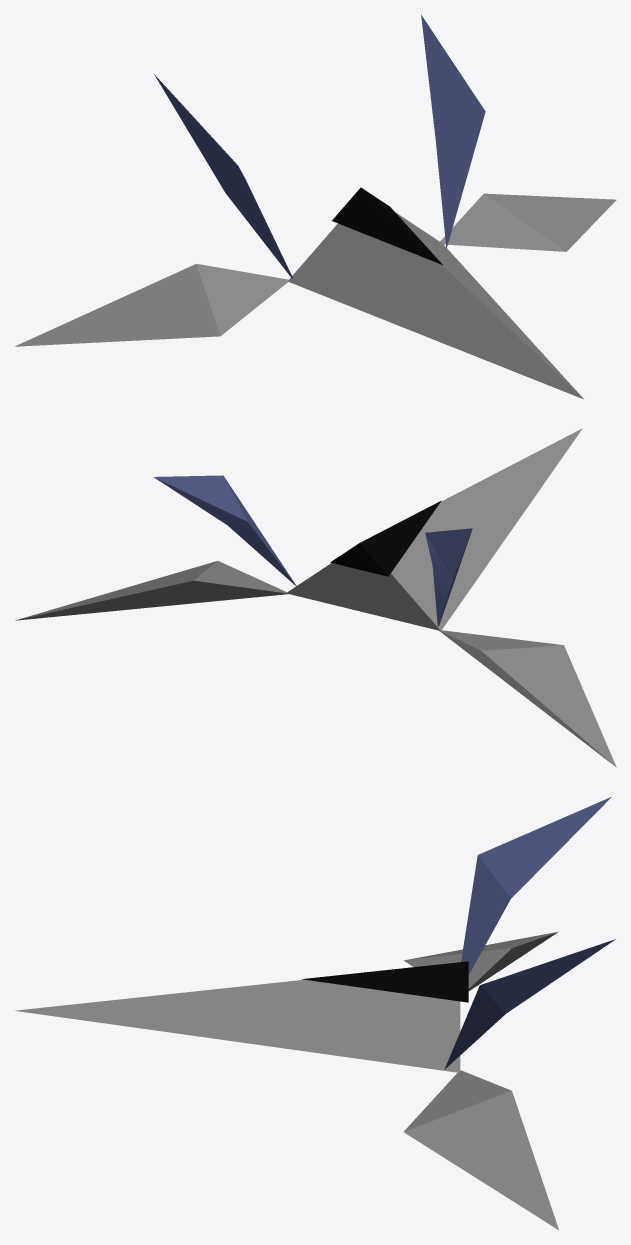
File: StarFox.fbx
3 views of the same model, one above another, from view 1: azimuth 30°, elevation 25°; view 2: azimuth 150°, elevation 25°; view 3: azimuth 270°, elevation 25° (orthographic).
Visible parts, largest first — view 1: pasted__pPyramid5; view 2: pasted__pPyramid5; view 3: pasted__pPyramid5.
Boxes of the visible parts, bbox=[...] form: pasted__pPyramid5: bbox=[15, 14, 616, 399]; pasted__pPyramid5: bbox=[15, 428, 616, 767]; pasted__pPyramid5: bbox=[15, 797, 615, 1229].
Bounding box in the file's own units: 3.88 × 1.32 × 3.31.
